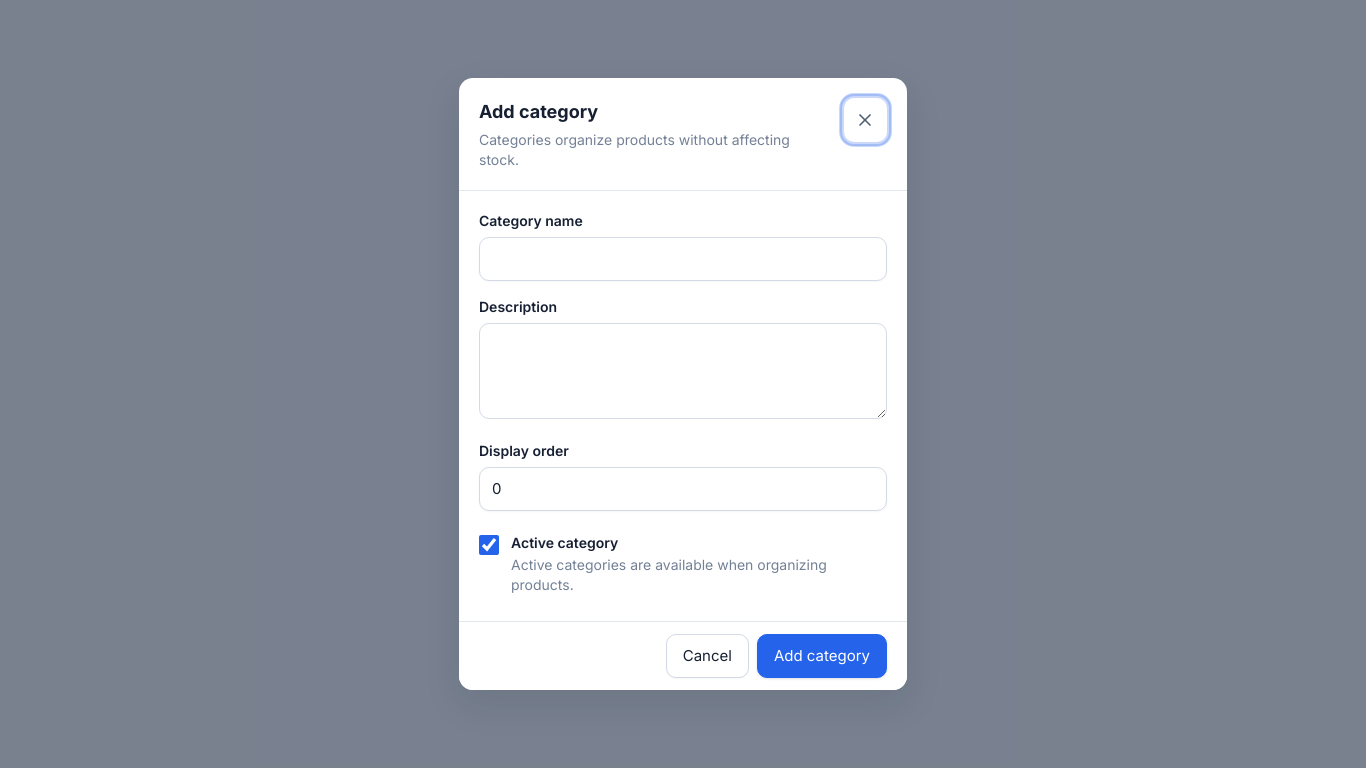
it: CategoryDialog › displays backend field errors and a 403 message
Type "Dairy" into the field labelled "Category name" at coordinates (683, 259), box x1=479 y1=237 x2=887 y2=281
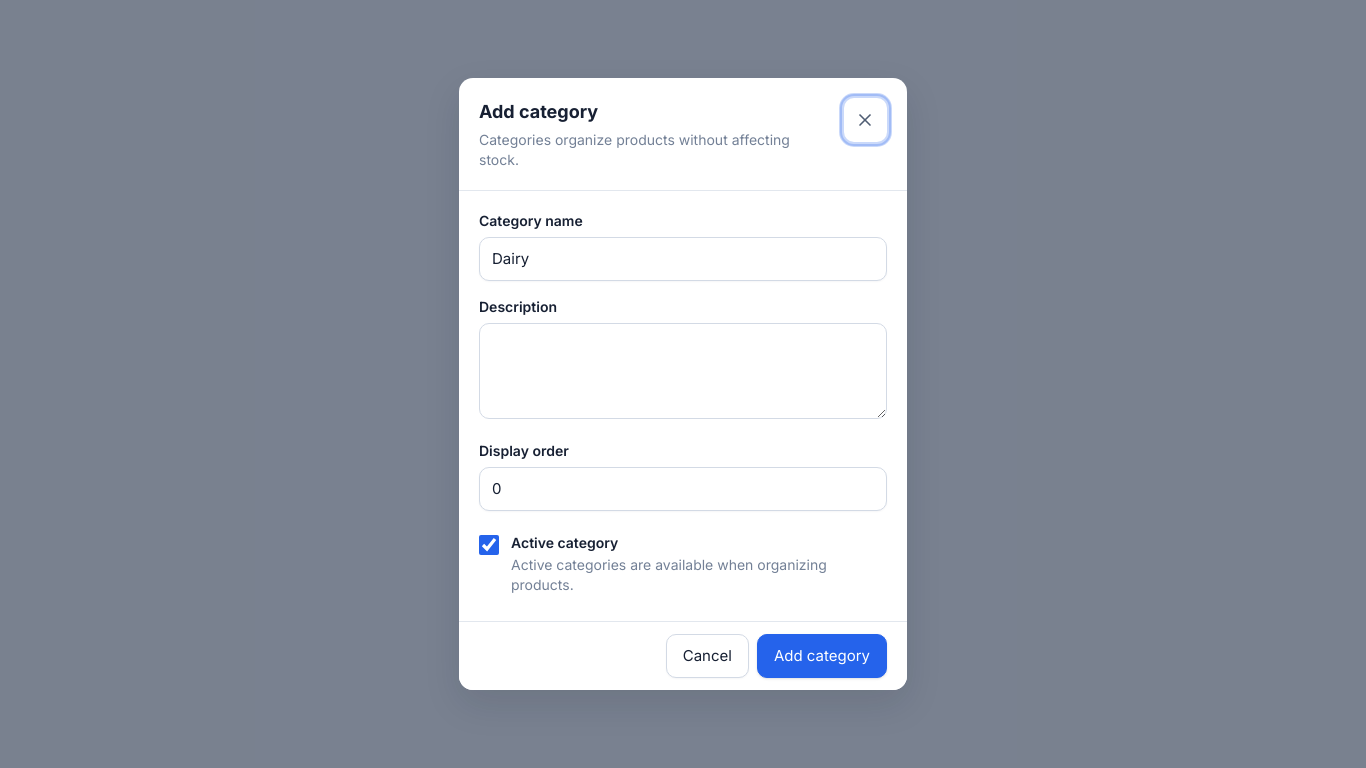
Click the button "Add category" at coordinates (822, 656), box x1=757 y1=634 x2=887 y2=678
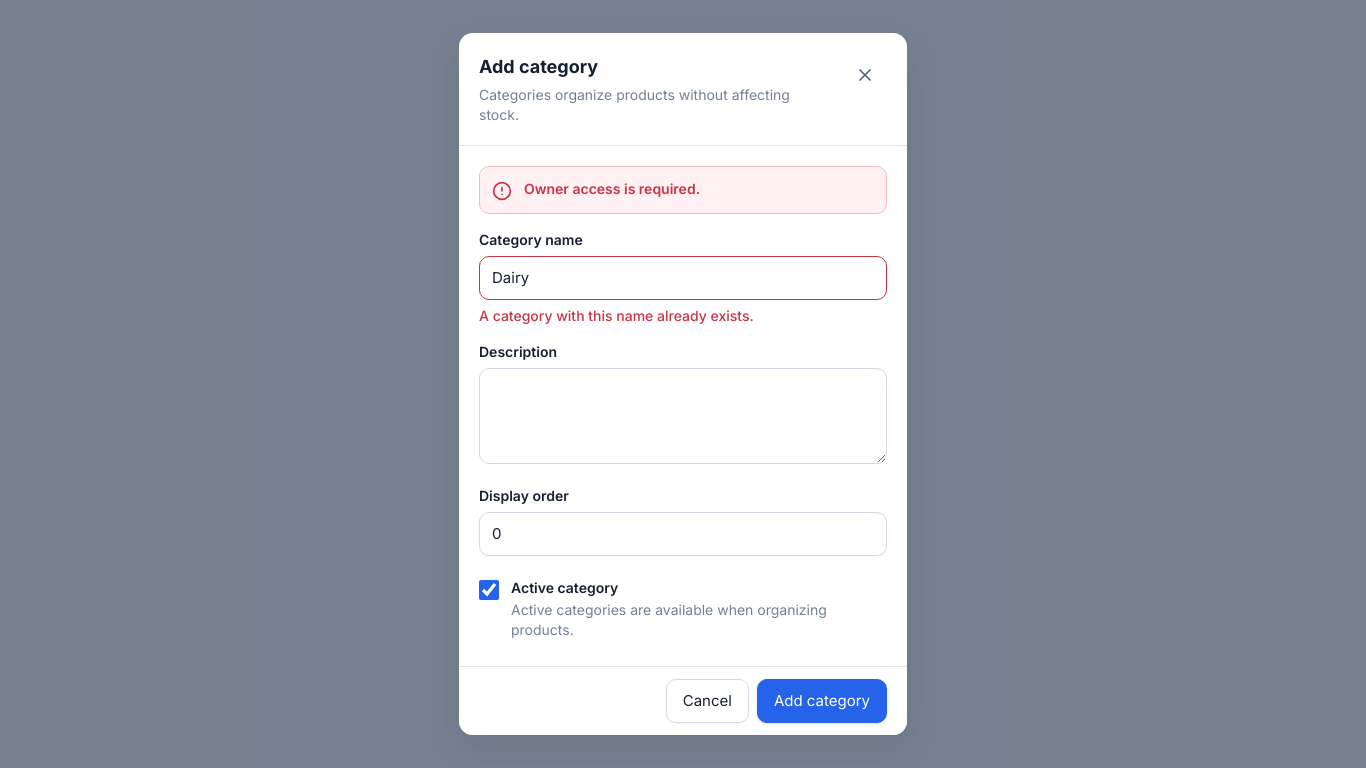
Expected: the text "Owner access is required." is shown, x1=524 y1=179 x2=700 y2=199
Expected: the text "A category with this name already exists." is shown, x1=479 y1=307 x2=754 y2=324
